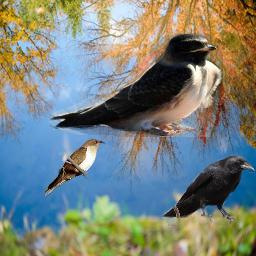Crow: (159, 154, 255, 226)
Cuckoo: (45, 138, 106, 196)
Swallow: (47, 33, 223, 137)
